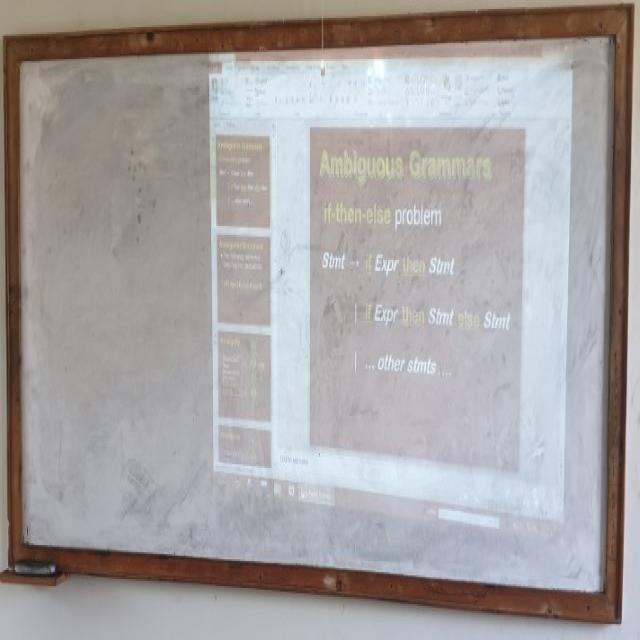Slide: (210, 36, 575, 548)
White-board: (11, 25, 622, 605)
